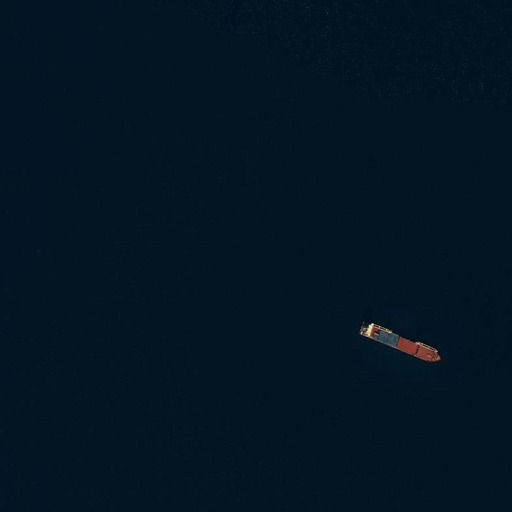ship: (355, 318, 445, 367)
